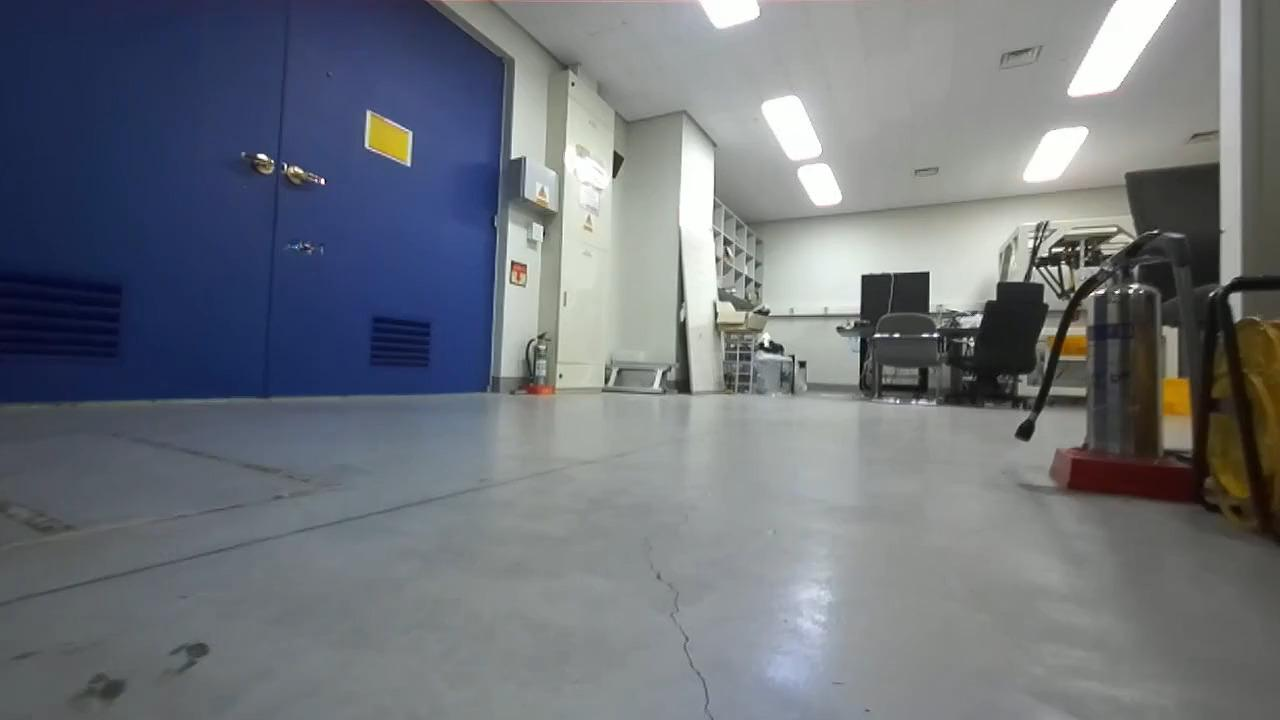crazyflie: (279, 238, 328, 259)
